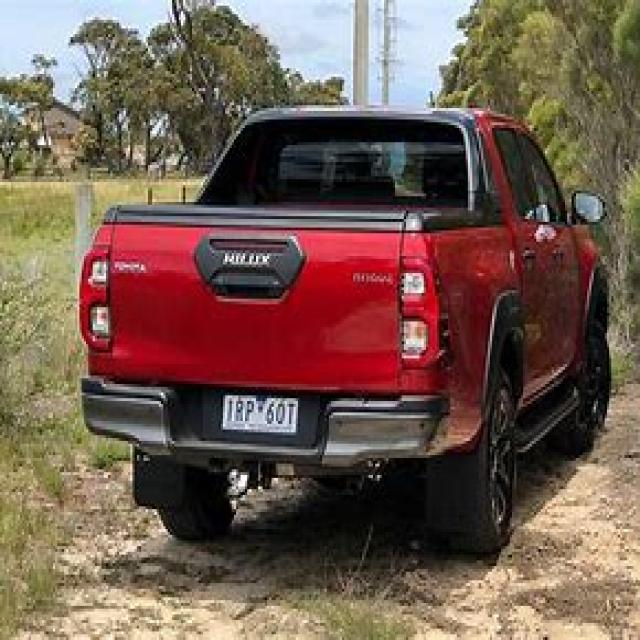light_vehicle: (62, 85, 631, 560)
